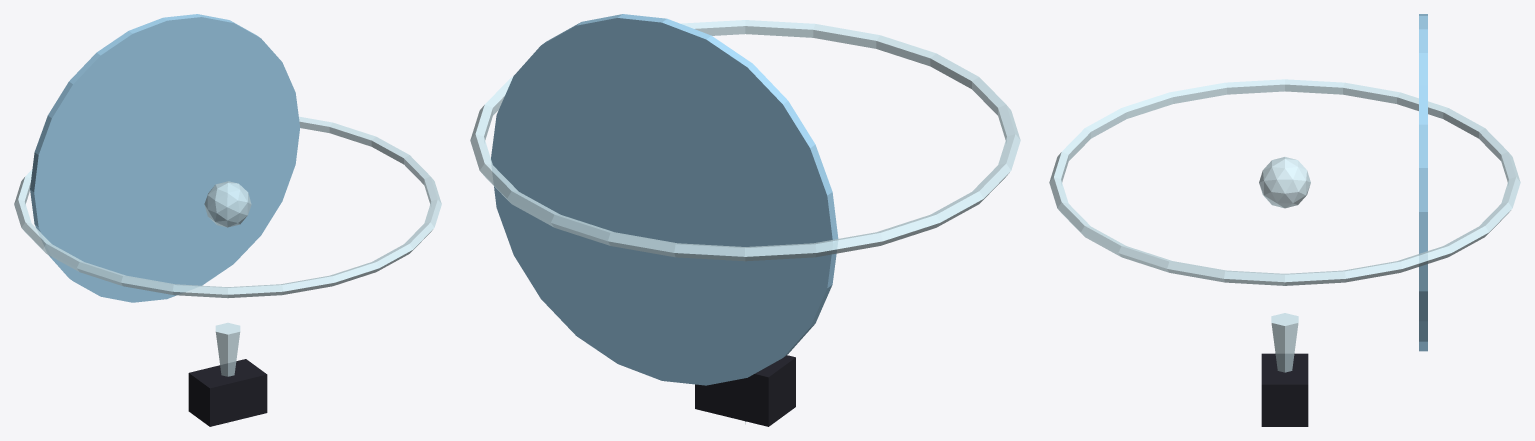
Rendered from 05_combat_start_camera_rig.glb.
3 views of the same model, side by side, from view 1: azimuth 30°, elevation 25°; view 2: azimuth 150°, elevation 25°; view 3: azimuth 270°, elevation 25° (orthographic). The views are drawn at different scales.
Parts seen in each view (by area): view 1: combat_start_trigger_disc, camera_orbit_track, camera_proxy, target_focus_point, look_vector; view 2: combat_start_trigger_disc, camera_orbit_track, camera_proxy; view 3: camera_orbit_track, camera_proxy, combat_start_trigger_disc, target_focus_point, look_vector.
Boxes of the visible parts, x1=… form: combat_start_trigger_disc: x1=30, y1=14, x2=300, y2=302; camera_orbit_track: x1=14, y1=116, x2=441, y2=298; camera_proxy: x1=188, y1=359, x2=267, y2=426; target_focus_point: x1=204, y1=181, x2=251, y2=227; look_vector: x1=215, y1=322, x2=240, y2=423; combat_start_trigger_disc: x1=491, y1=14, x2=838, y2=385; camera_orbit_track: x1=470, y1=20, x2=1020, y2=261; camera_proxy: x1=695, y1=355, x2=795, y2=426; camera_orbit_track: x1=1049, y1=79, x2=1520, y2=285; camera_proxy: x1=1261, y1=353, x2=1308, y2=426; combat_start_trigger_disc: x1=1419, y1=14, x2=1427, y2=351; target_focus_point: x1=1259, y1=157, x2=1310, y2=208; look_vector: x1=1271, y1=313, x2=1298, y2=372.
Bounding box in the file's own units: 1.81 × 1.68 × 1.81.
